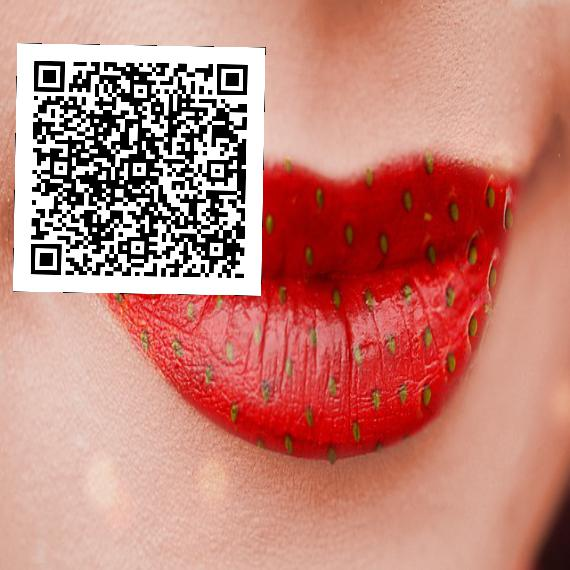qr_code: (13, 43, 265, 295)
